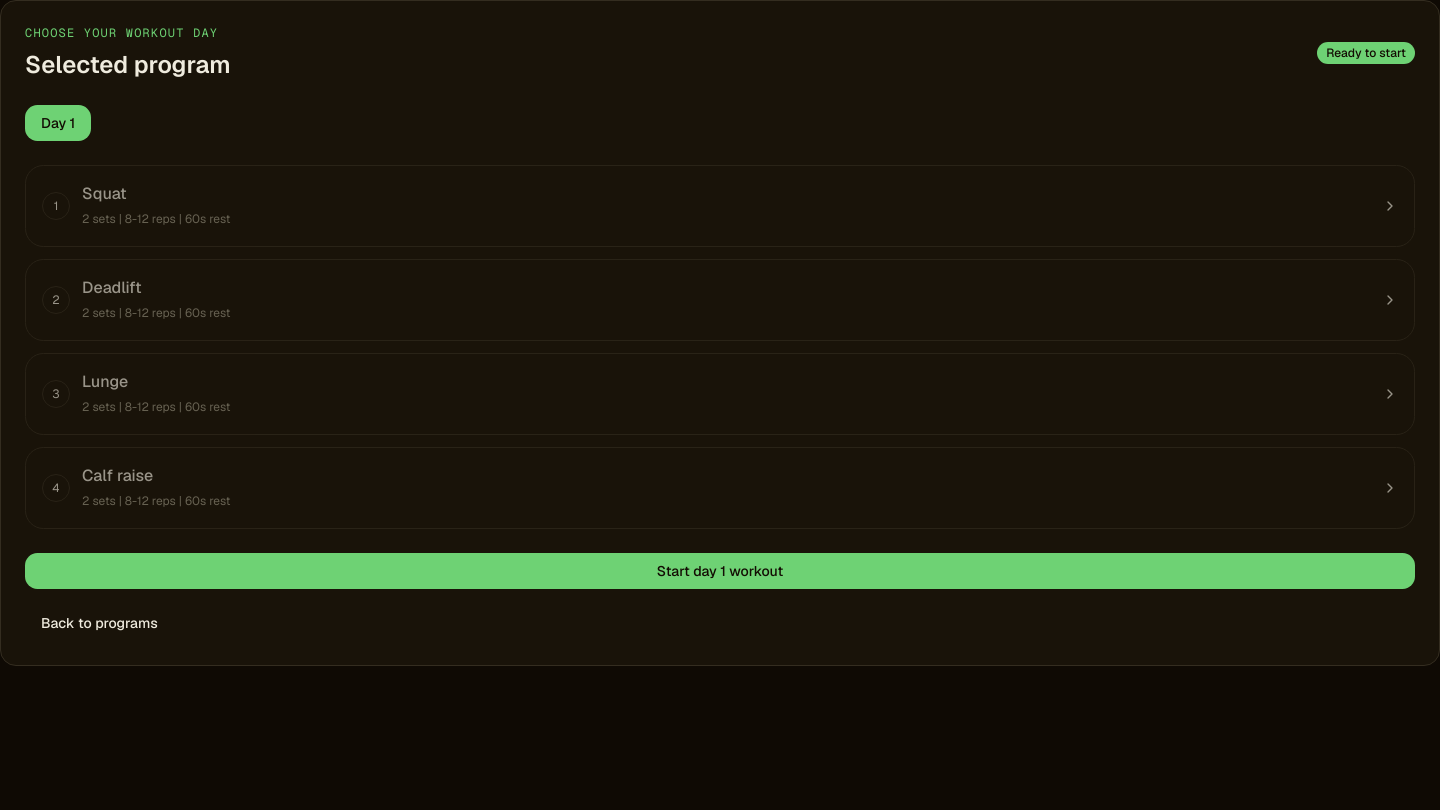
Scenario: workout interaction › keeps saved logs authoritative over stale browser drafts
What coordinates should you click on to do the following:
click the button "Start day 1 workout"
I would click on:
 (720, 571)
Its box is [25,553,1415,589].
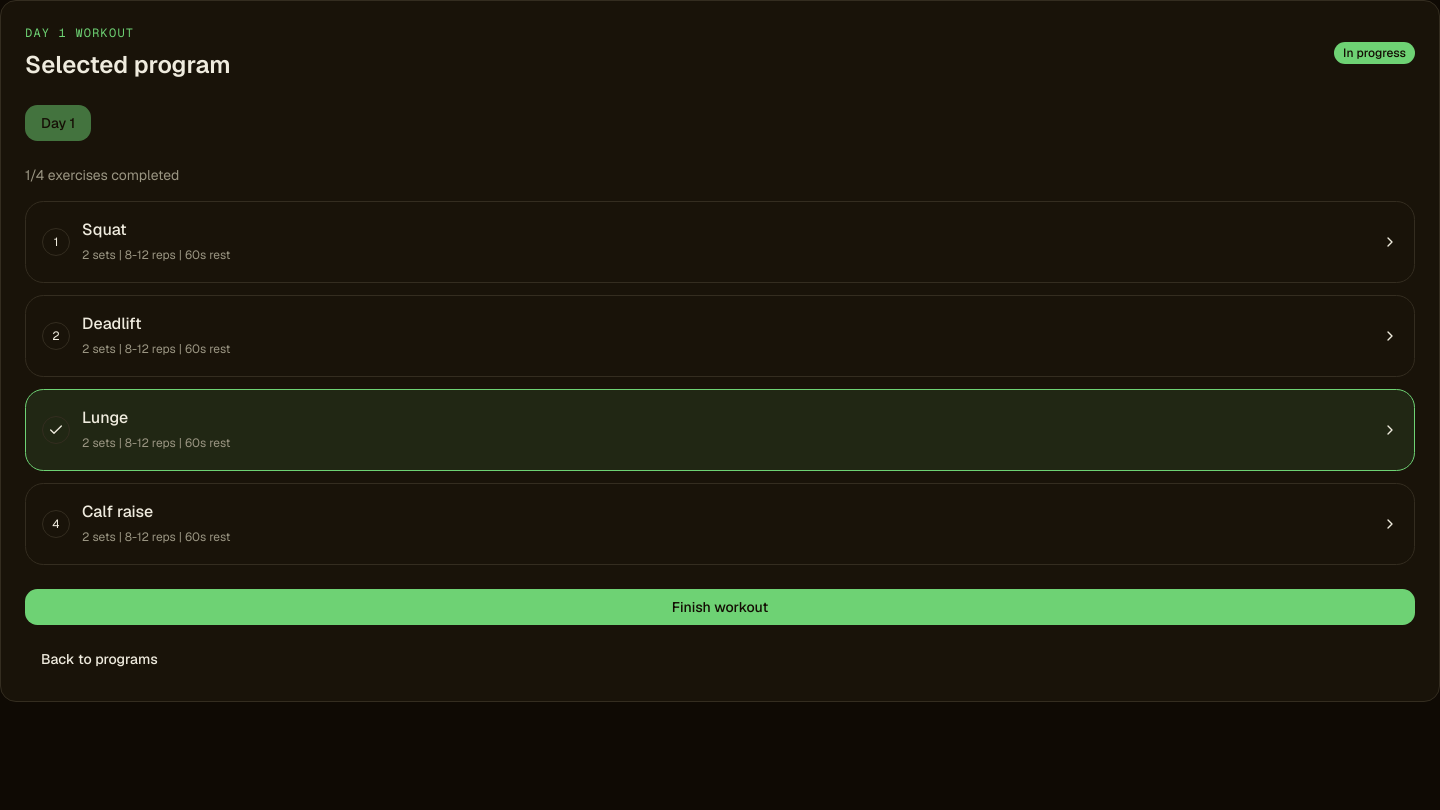
What coordinates should you click on to do the following:
click the button "Lunge 2 sets | 8-12 reps | 60s rest"
I would click on:
 (105, 418)
Its box is [25,389,1415,471].
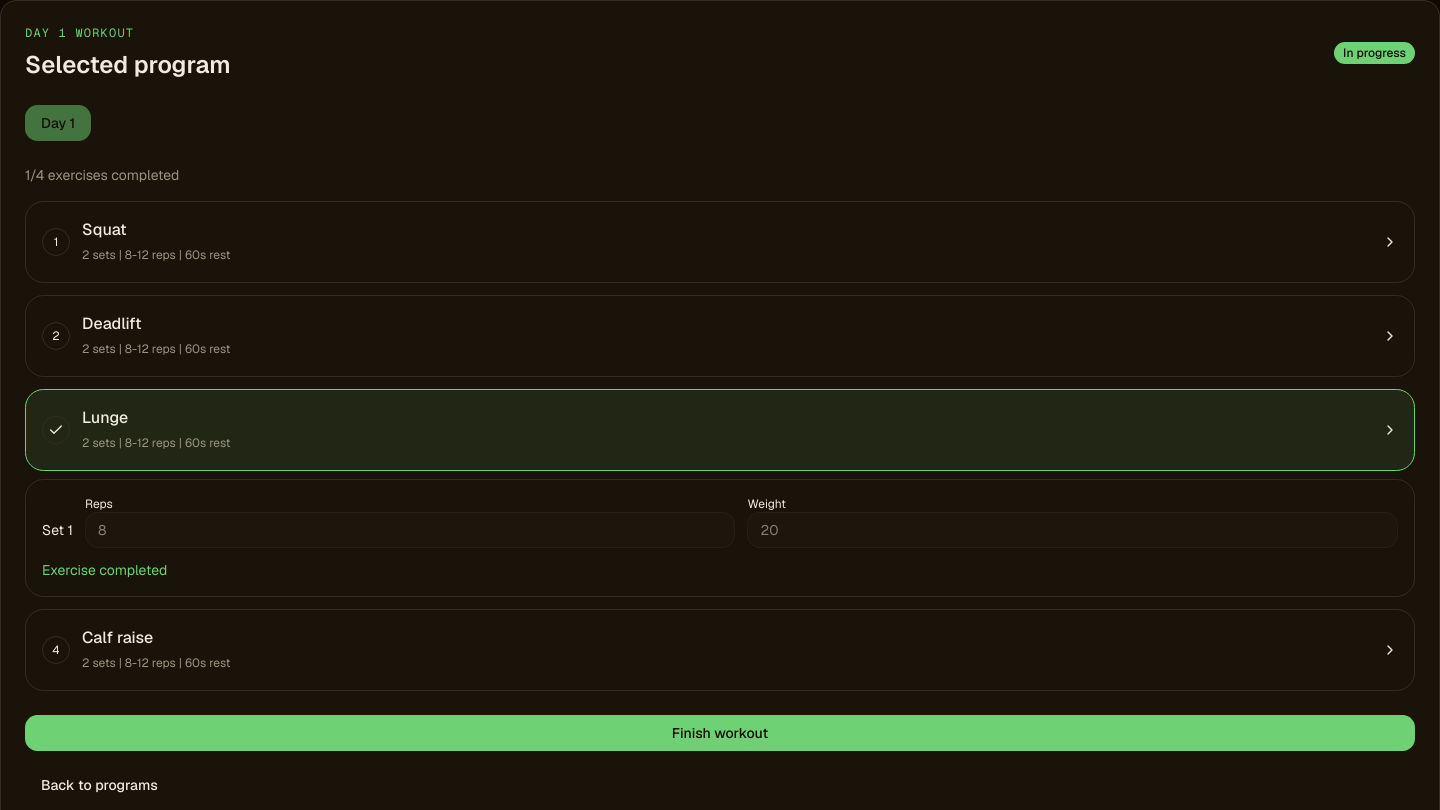
Expected: the number field named "Lunge set 1 reps" holds "8", [85,512,736,548]
Expected: the number field named "Lunge set 1 weight" holds "20", [748,512,1398,548]
